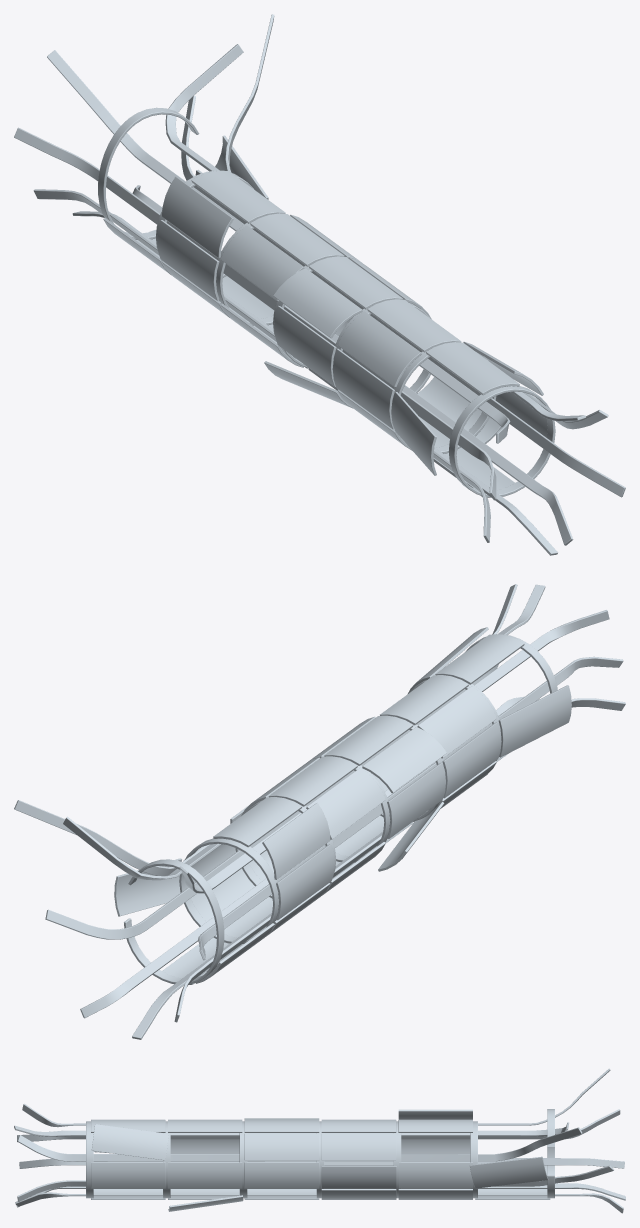
File: wrecked_tunnel.gltf
3 views of the same model, one above another, from view 1: azimuth 30°, elevation 25°; view 2: azimuth 150°, elevation 25°; view 3: azimuth 270°, elevation 25° (orthographic). The views are drawn at different scales.
Parts seen in each view (by area): view 1: plates, bars, rings; view 2: plates, bars, rings; view 3: plates, bars, rings.
Part boxes in pixels (bbox=[...]): plates: bbox=[103, 135, 550, 497]; bars: bbox=[14, 14, 625, 555]; rings: bbox=[98, 107, 555, 497]; plates: bbox=[114, 627, 571, 984]; bars: bbox=[14, 584, 625, 1039]; rings: bbox=[124, 634, 557, 984]; plates: bbox=[91, 1109, 550, 1211]; bars: bbox=[14, 1068, 625, 1213]; rings: bbox=[86, 1109, 554, 1198].
Size of the model in its own units: 4.55 by 3.62 by 15.92.
